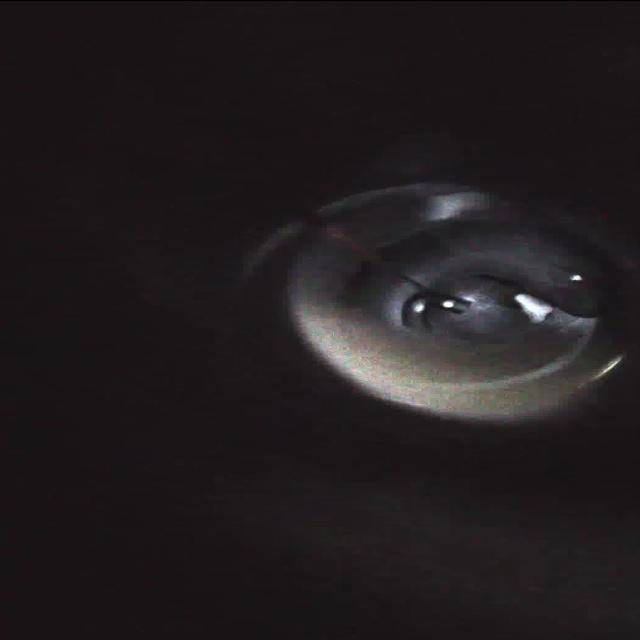impurity: (548, 279, 611, 325), (512, 286, 550, 322)
